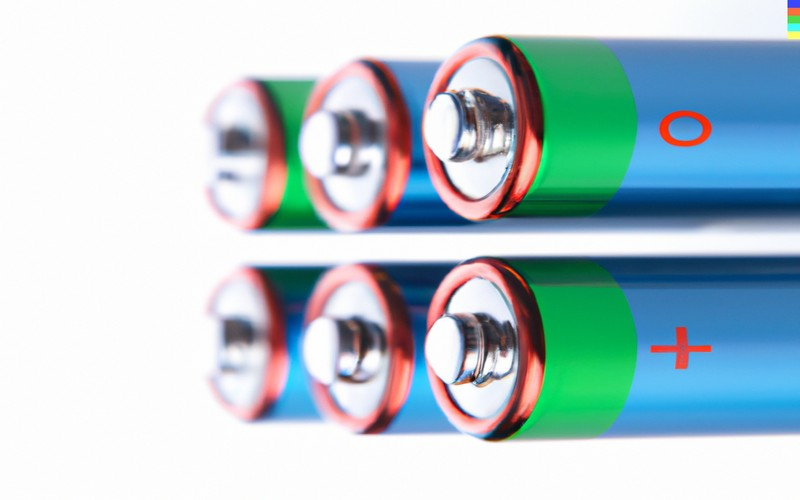Battery: (166, 247, 800, 458), (164, 29, 800, 238)
